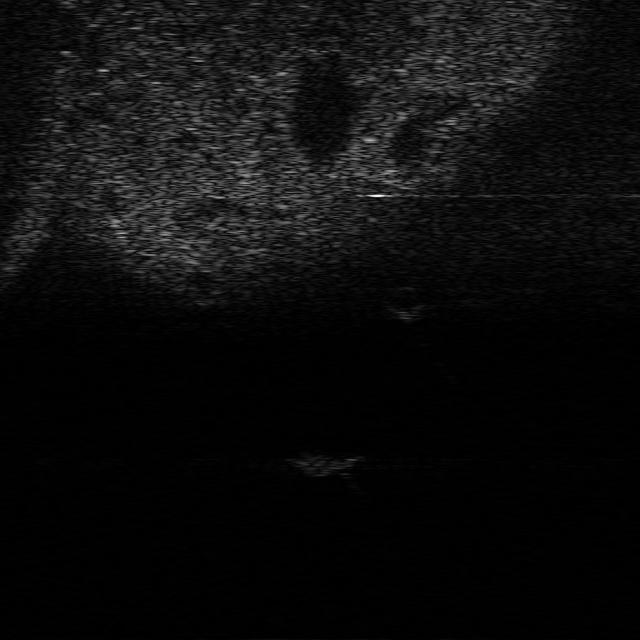ball: (382, 285, 426, 321)
cube: (280, 453, 362, 478)
